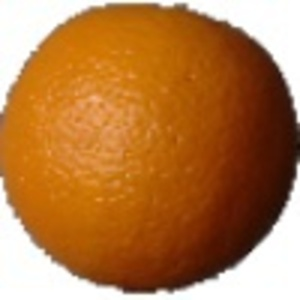laranja: (1, 2, 299, 294)
